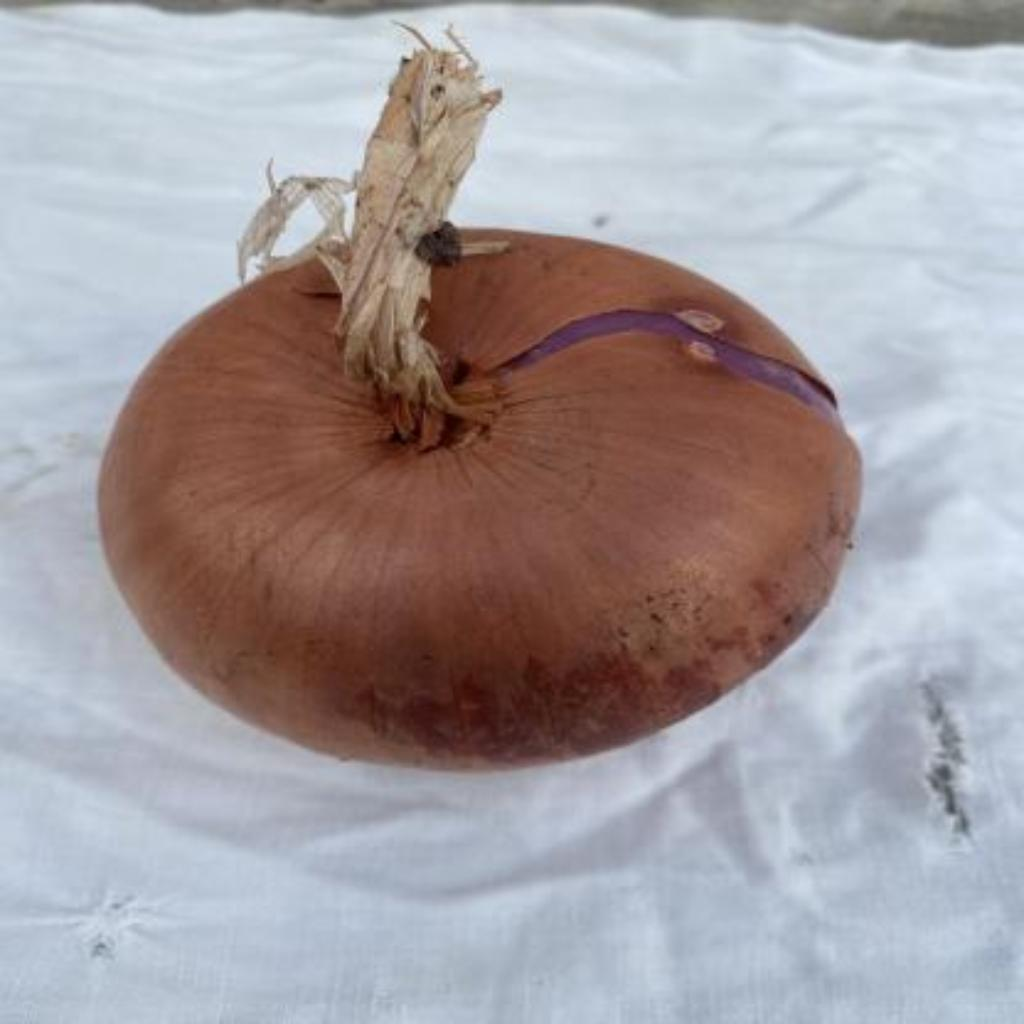Onion: (98, 34, 864, 769)
